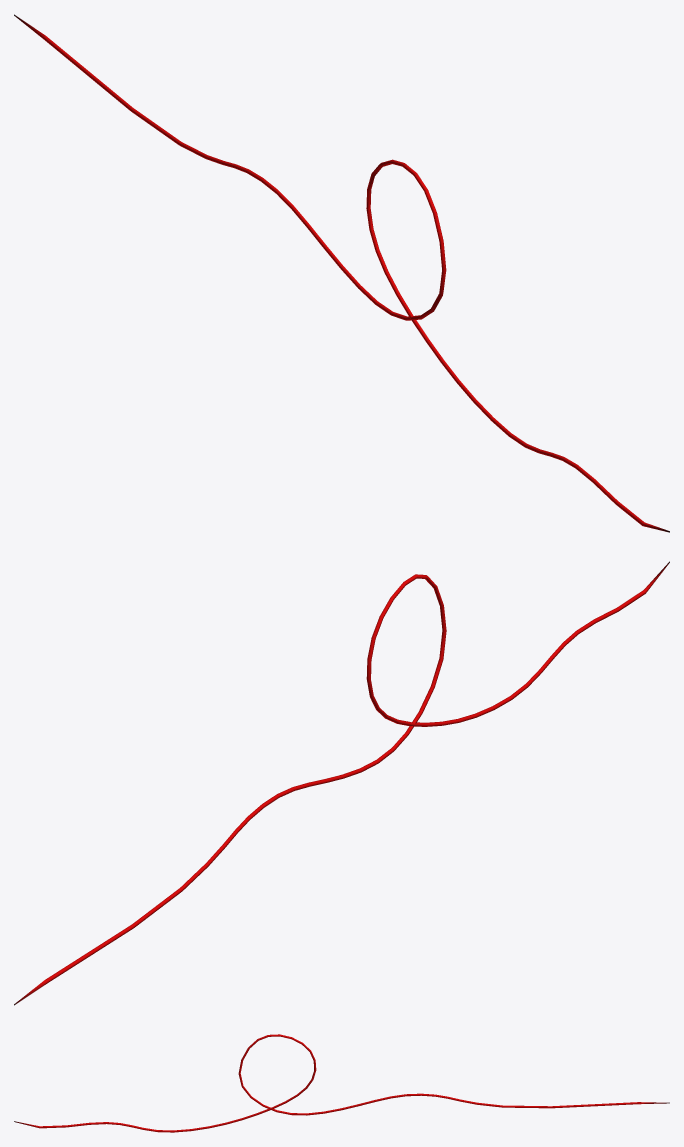
The model's file is WindLine.fbx.
The picture shows the model from 3 angles, top to bottom: view 1: azimuth 30°, elevation 25°; view 2: azimuth 150°, elevation 25°; view 3: azimuth 270°, elevation 25°; orthographic projection. The views are drawn at different scales.
Parts seen in each view (by area): view 1: pCylinder3; view 2: pCylinder3; view 3: pCylinder3.
Part boxes in pixels (box(x1,y1,x2,y2)): pCylinder3: box(14, 14, 669, 532); pCylinder3: box(14, 561, 669, 1005); pCylinder3: box(14, 1034, 669, 1132).
Bounding box in the file's own units: 115 × 6028 × 36572.
